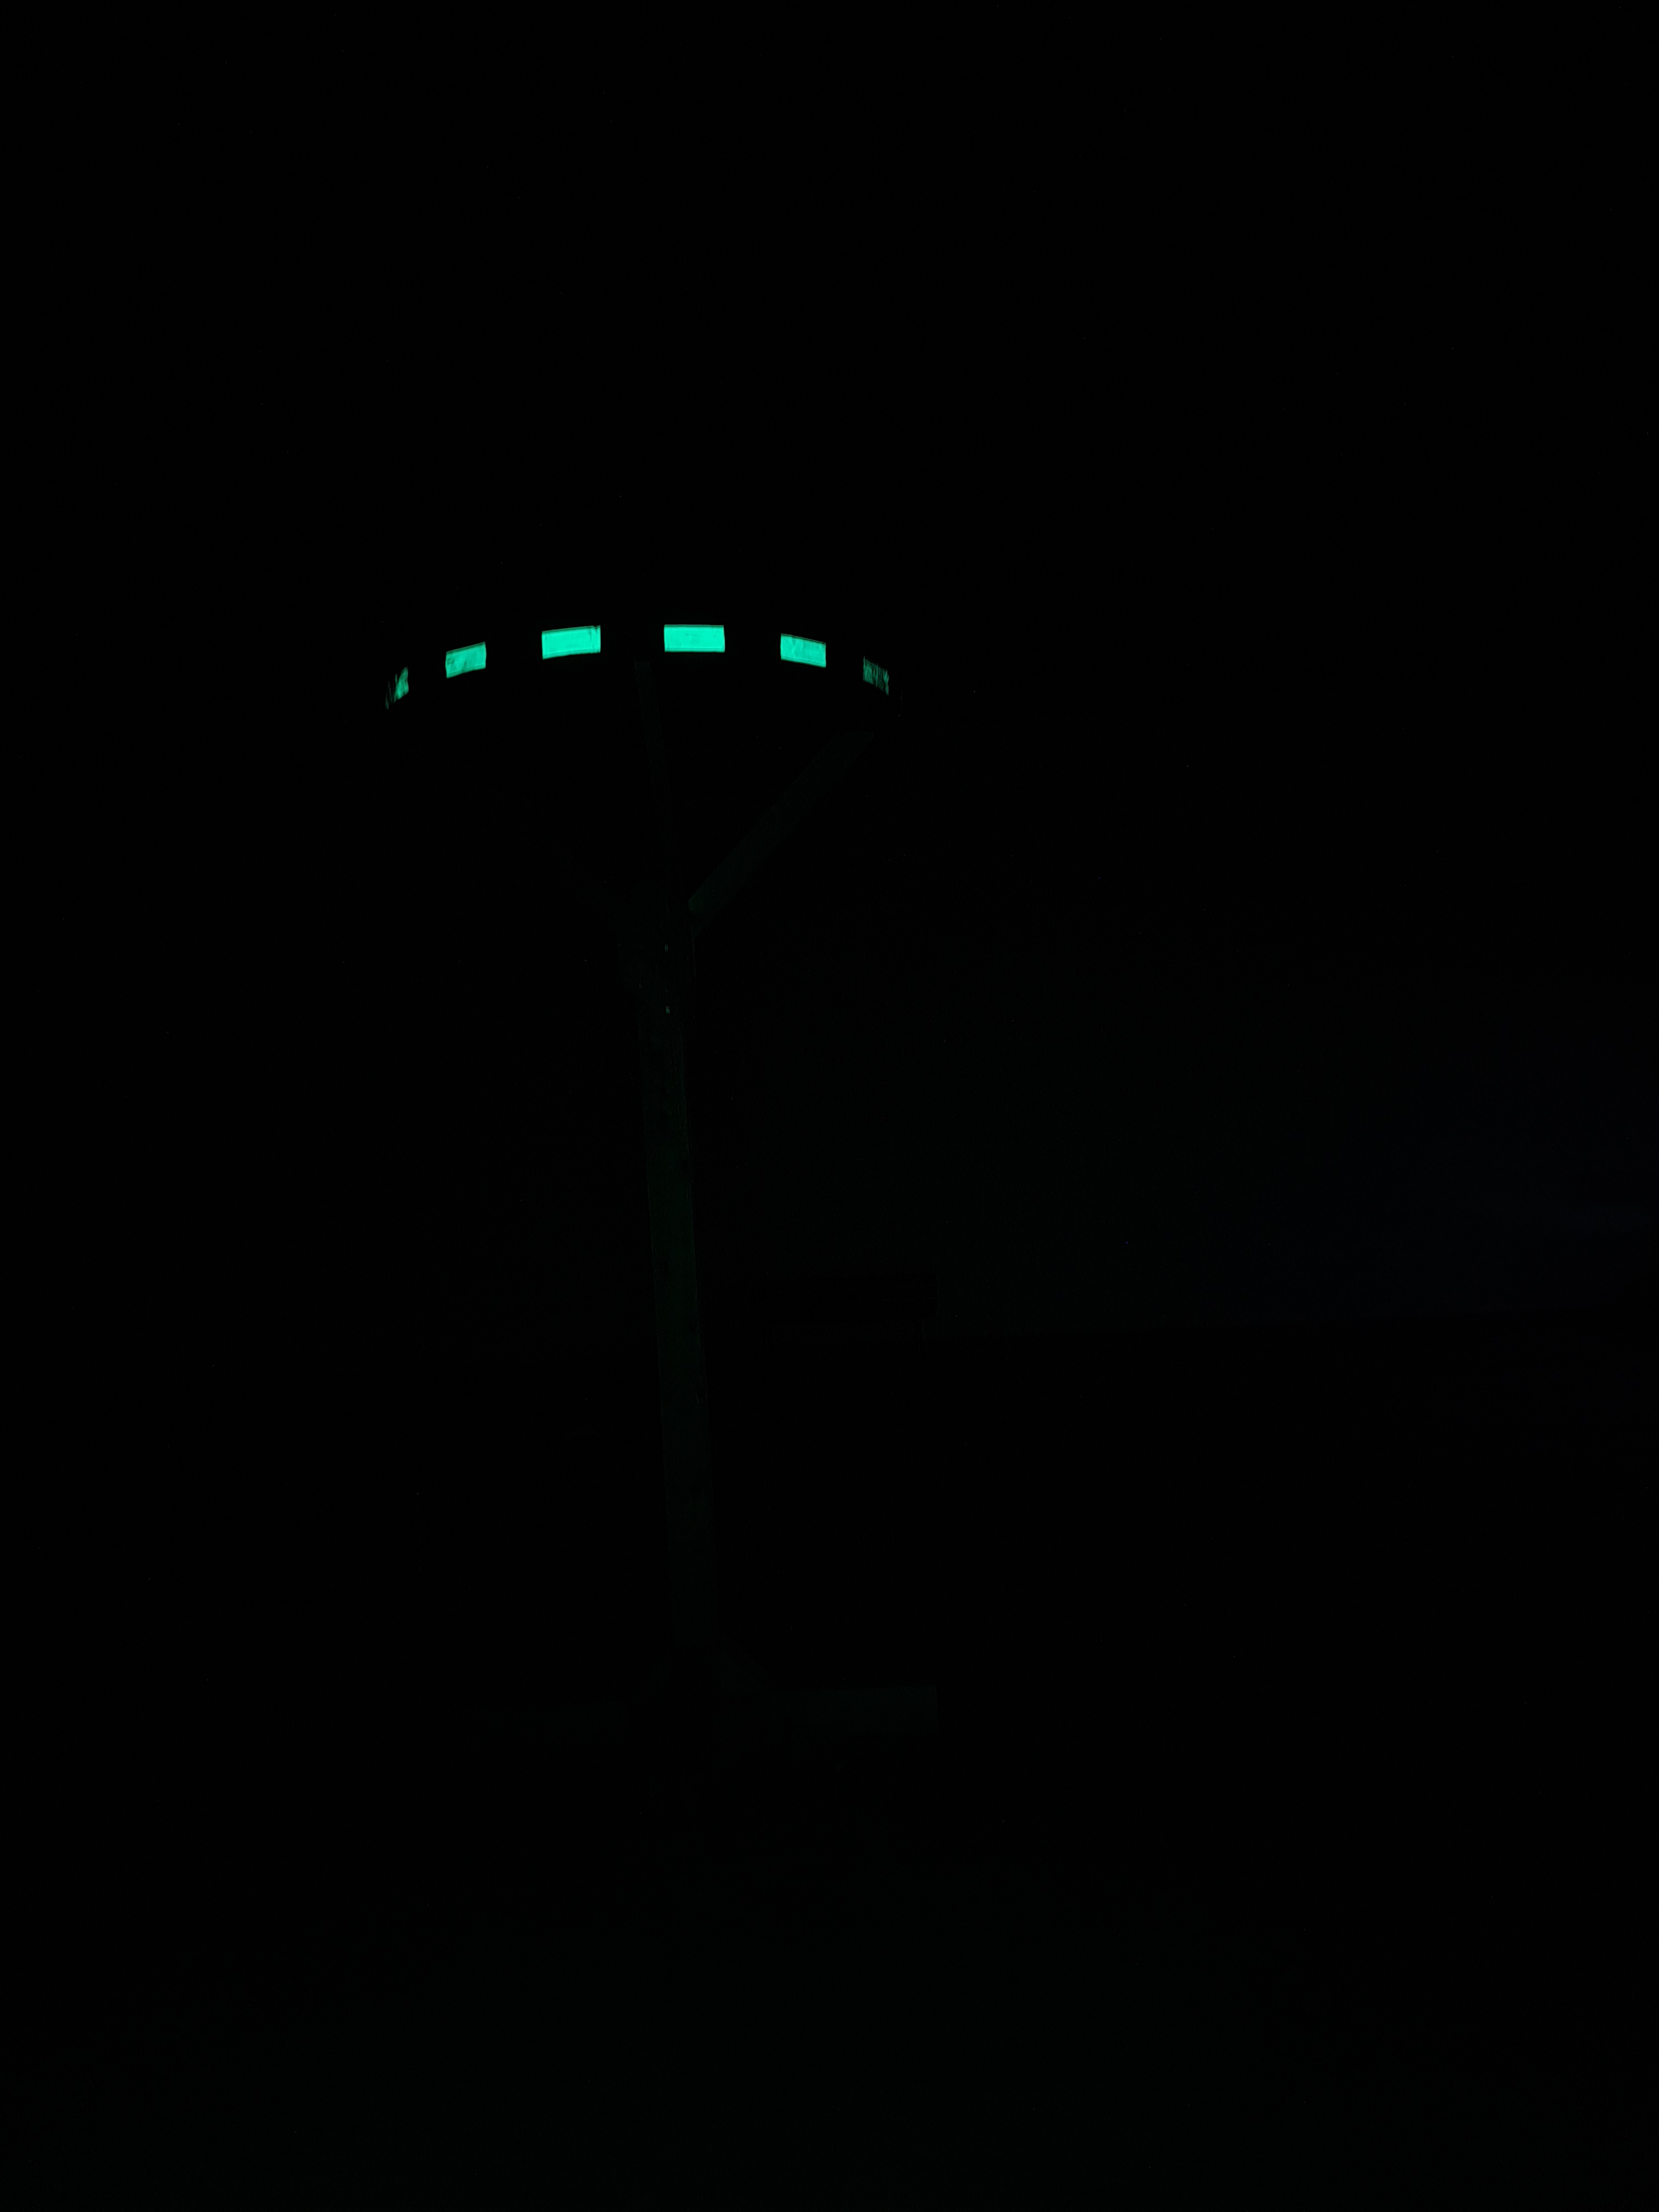hoop: (382, 613, 896, 719)
